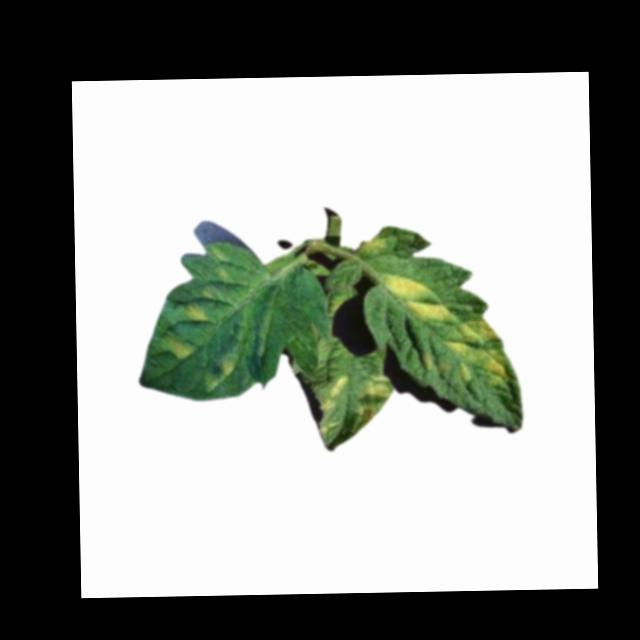Leaf_Mold: (440, 318, 505, 395), (379, 274, 448, 324), (353, 375, 394, 429), (317, 373, 348, 433), (164, 336, 193, 361), (357, 235, 389, 257), (216, 355, 237, 380), (183, 301, 205, 323)
